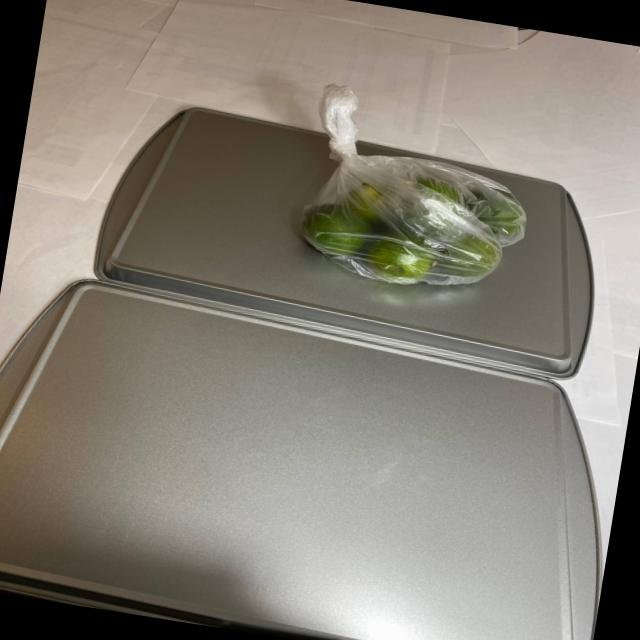lemon: (290, 151, 530, 304)
